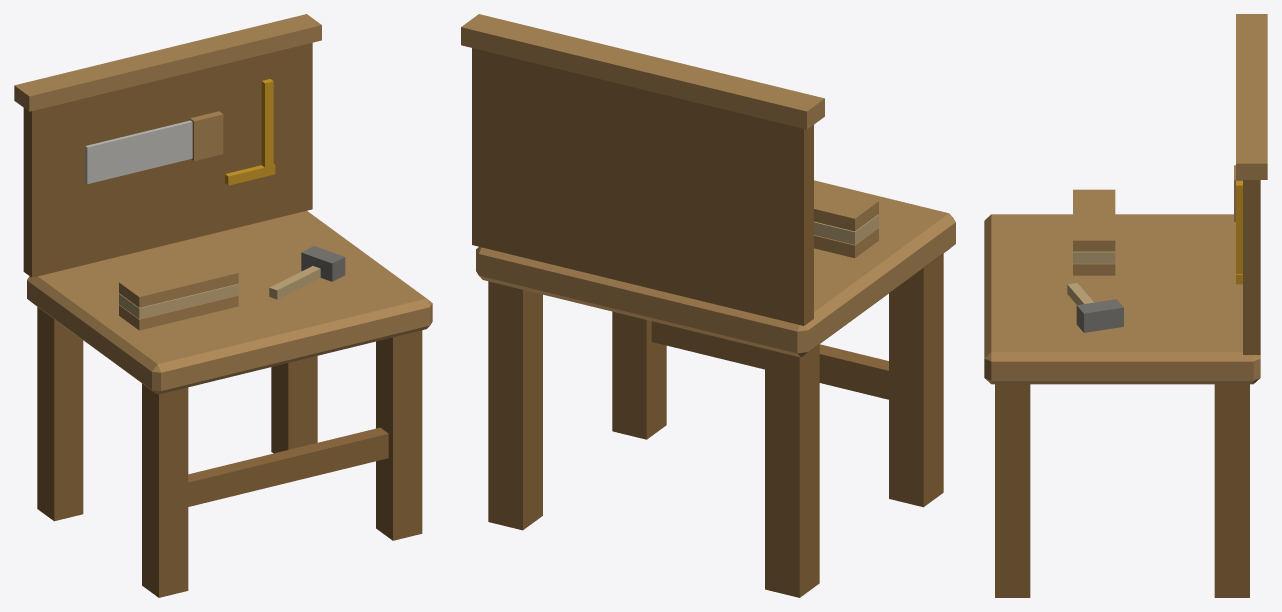
Rendered from wb_basic.fbx.
The picture shows the model from 3 angles, left to right: view 1: azimuth 30°, elevation 25°; view 2: azimuth 150°, elevation 25°; view 3: azimuth 270°, elevation 25°; orthographic projection. The views are drawn at different scales.
Visible parts, largest first — view 1: wb_basic; view 2: wb_basic; view 3: wb_basic.
Boxes of the visible parts, x1,y1,x2,y2 form: wb_basic: (14,14,432,597); wb_basic: (461,14,955,597); wb_basic: (984,14,1267,597).
Bounding box in the file's own units: 3 × 4.13 × 2.4.
